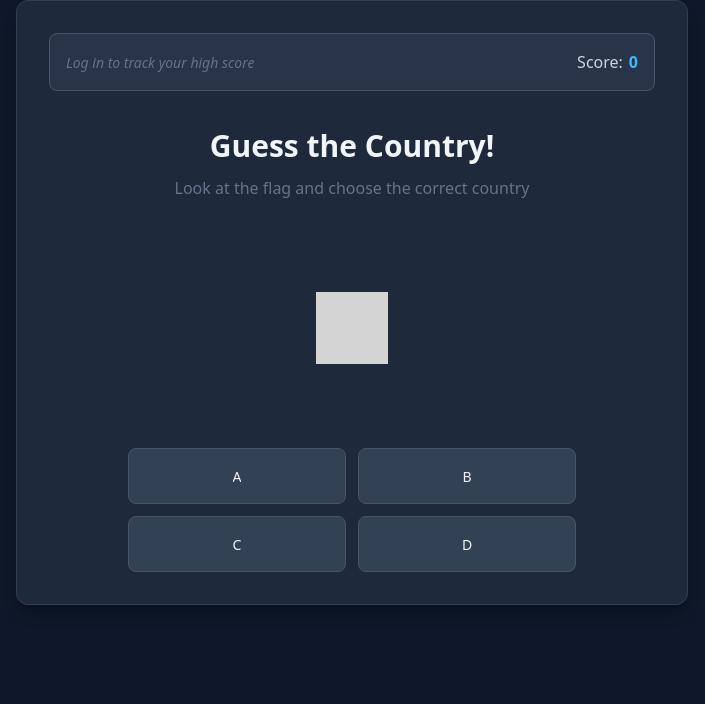
GameBoard › shows wrong result strip and correct answer when answer is wrong
Step 1. Click the button with class "answer-btn" showing "A" → (237, 476), box [128,448,346,504]
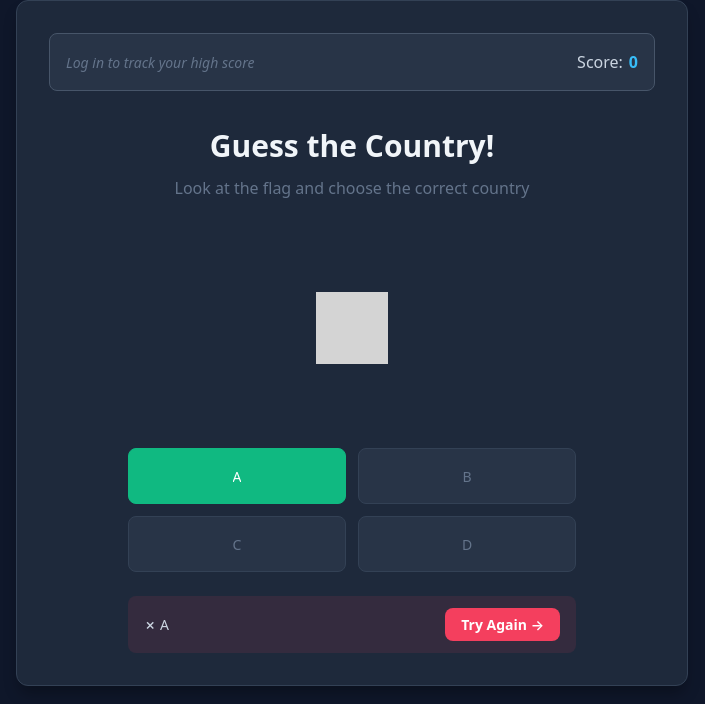
Expected: the text "a" is shown, [66,52,254,72]
Now the element with class "wrong" showing "✗ A Try Again →" is shown, box [128,596,576,653]
